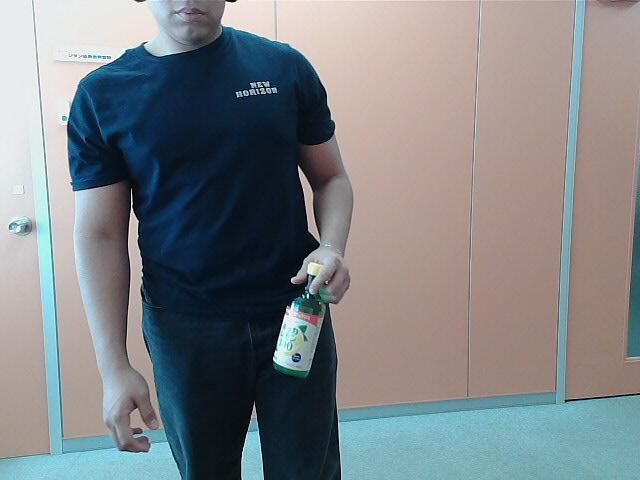Lemon_sapporo: (274, 255, 333, 382)
